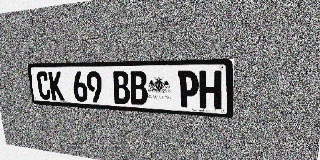6: (71, 71, 88, 102)
9: (86, 71, 103, 103)
B: (129, 71, 148, 105), (112, 71, 130, 104)
C: (36, 71, 52, 100)
H: (199, 71, 222, 109)
K: (48, 71, 64, 101)
P: (178, 71, 199, 108)
